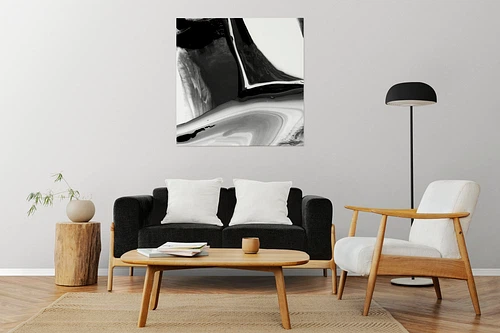chair: (332, 178, 483, 317)
floor lamp: (383, 79, 441, 289)
side table: (51, 221, 102, 288)
sofa: (106, 176, 338, 296)
table: (121, 247, 314, 328)
wall art: (173, 16, 307, 149)
